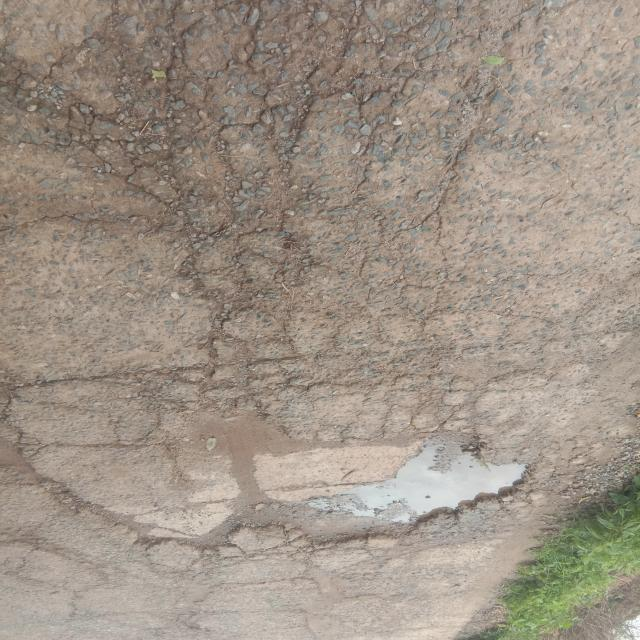cracks: (1, 5, 596, 382)
potholes: (0, 402, 532, 556)
